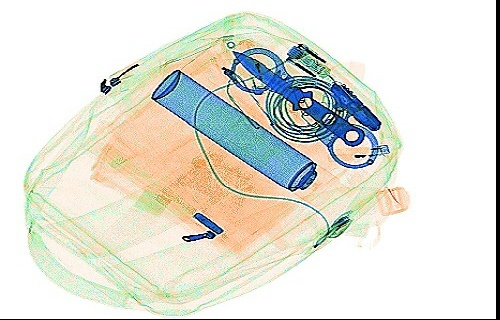handcuffs: (229, 45, 377, 168)
knife: (229, 47, 365, 146), (329, 79, 381, 132)
lighter: (236, 38, 264, 94), (327, 142, 391, 162)
pressure: (149, 68, 339, 207)
